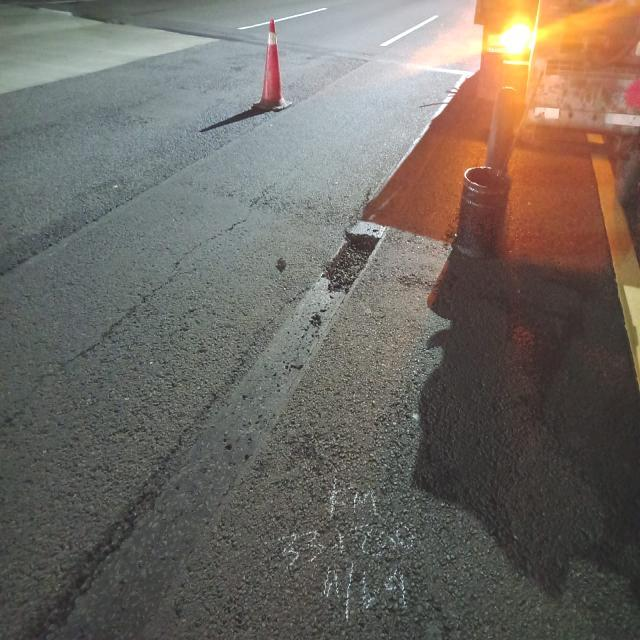Buraco: (316, 228, 384, 296)
